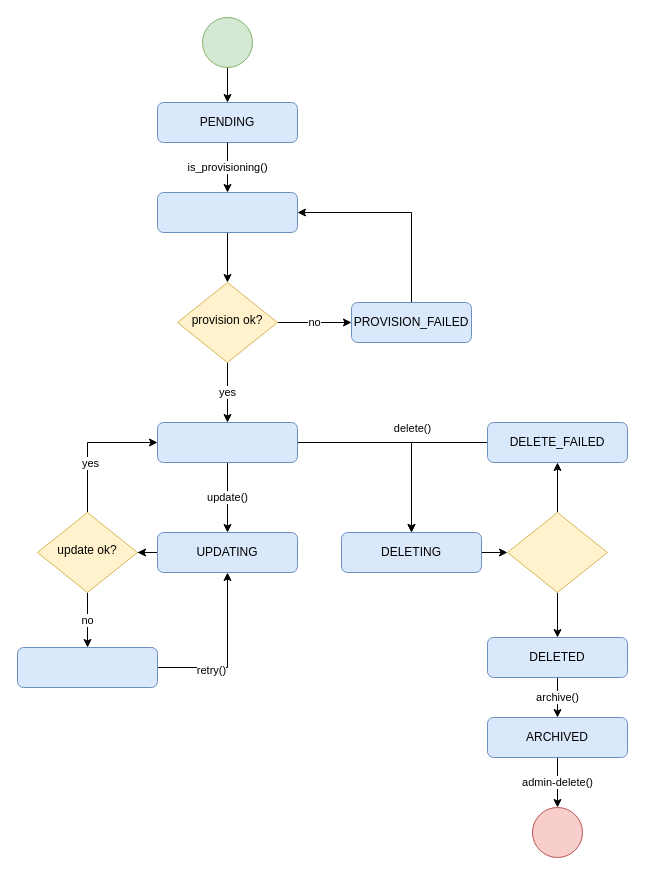
Image size: 645x875. Some labels were removed from this diagram. The box of each missing label's shape, as (x1, y1, x2, y2) in pixels:
AVAILABLE: (156, 422, 298, 462)
deletion ok?: (506, 512, 608, 592)
PROVISIONING: (156, 192, 298, 232)
UPDATE_FAILED: (16, 646, 158, 688)
